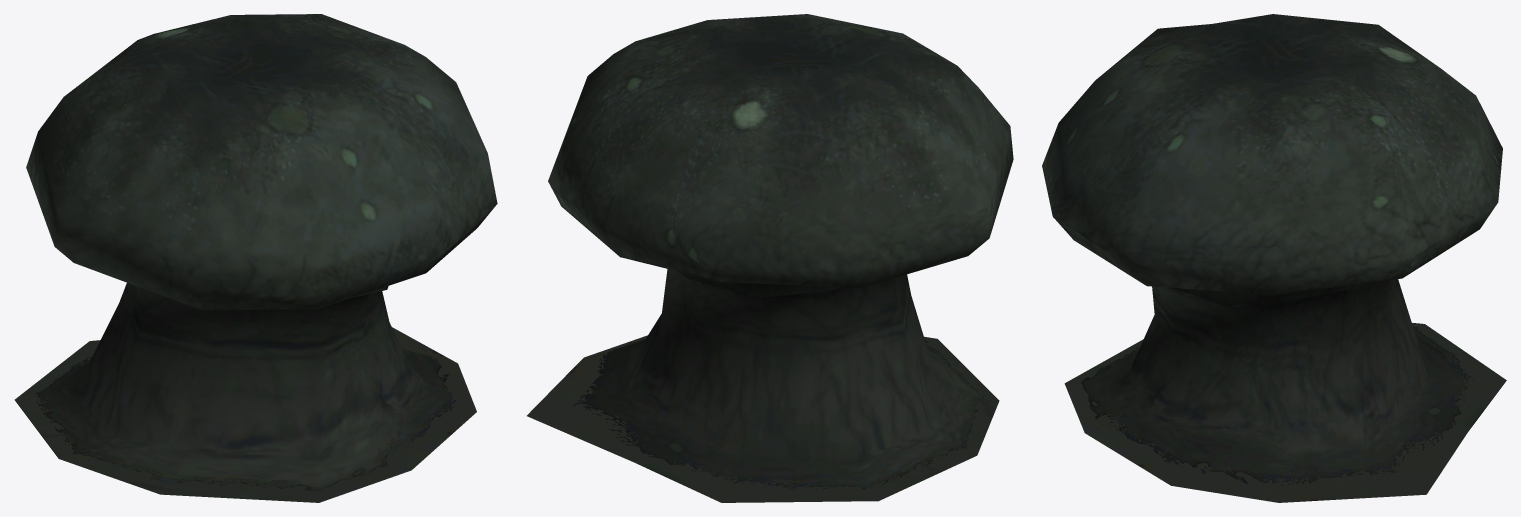
The model's file is sewer_fungi1.dae.
3 renders of one model, left to right at view 1: azimuth 30°, elevation 25°; view 2: azimuth 150°, elevation 25°; view 3: azimuth 270°, elevation 25°, orthographic.
Visible parts, largest first — view 1: Group2; view 2: Group2; view 3: Group2.
Boxes of the visible parts, <box> form: Group2: <box>14,14,497,502</box>; Group2: <box>527,14,1013,502</box>; Group2: <box>1042,14,1506,502</box>.
Bounding box in the file's own units: 0.3926 × 0.3279 × 0.3912.
